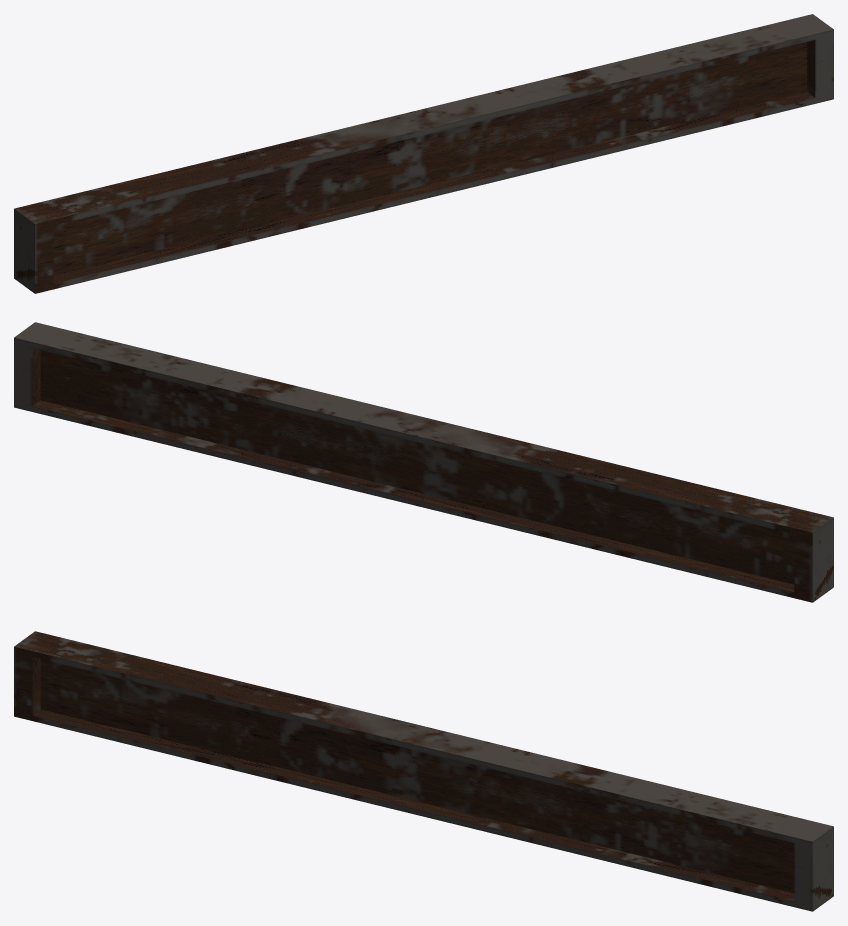
File: hierro.glb
3 renders of one model, top to bottom at view 1: azimuth 30°, elevation 25°; view 2: azimuth 150°, elevation 25°; view 3: azimuth 330°, elevation 25°, orthographic.
Visible parts, largest first — view 1: Cube.005; view 2: Cube.005; view 3: Cube.005.
Part boxes in pixels (left/top/right/bottom): Cube.005: left=14, top=14, right=833, bottom=293; Cube.005: left=14, top=322, right=833, bottom=602; Cube.005: left=14, top=631, right=833, bottom=911.
Bounding box in the file's own units: 10.49 × 0.8772 × 0.4888.
Materials: 1 (1 with a texture image).
